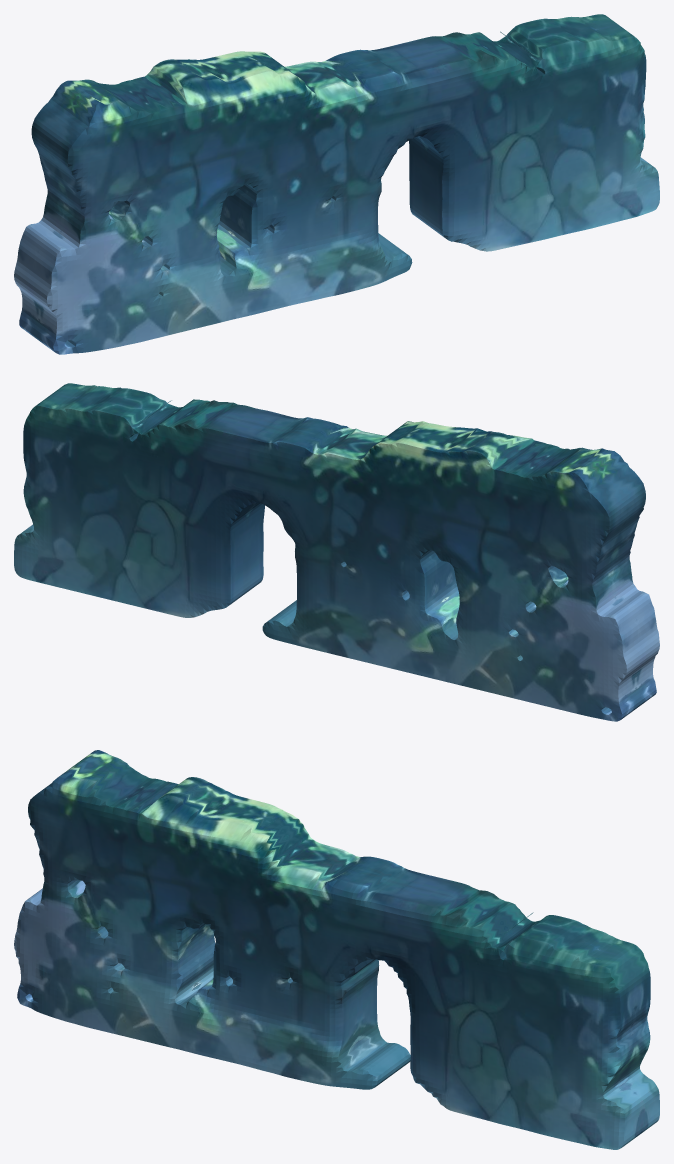
Rendered from stone_arch_bridge.glb.
3 renders of one model, top to bottom at view 1: azimuth 30°, elevation 25°; view 2: azimuth 150°, elevation 25°; view 3: azimuth 330°, elevation 25°, orthographic.
Parts seen in each view (by area): view 1: geometry_0; view 2: geometry_0; view 3: geometry_0.
Boxes of the visible parts, box(x1,y1,x2,y2) form: geometry_0: box(14, 14, 659, 354); geometry_0: box(14, 383, 659, 721); geometry_0: box(14, 750, 659, 1149).
Size of the model in its own units: 8.68 by 3.23 by 1.12.
1 material, 1 textured.
